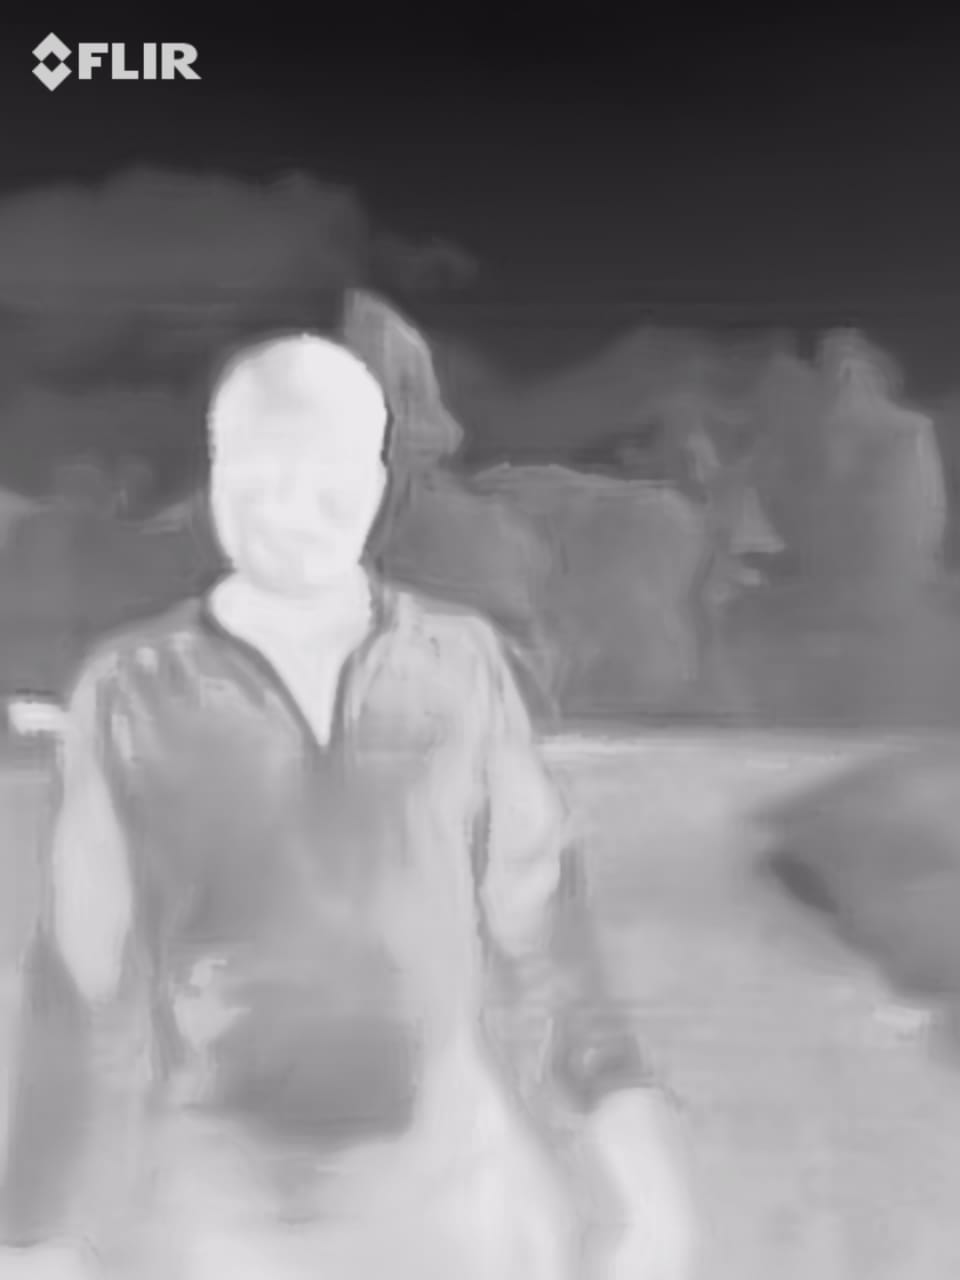head: (178, 333, 413, 590)
